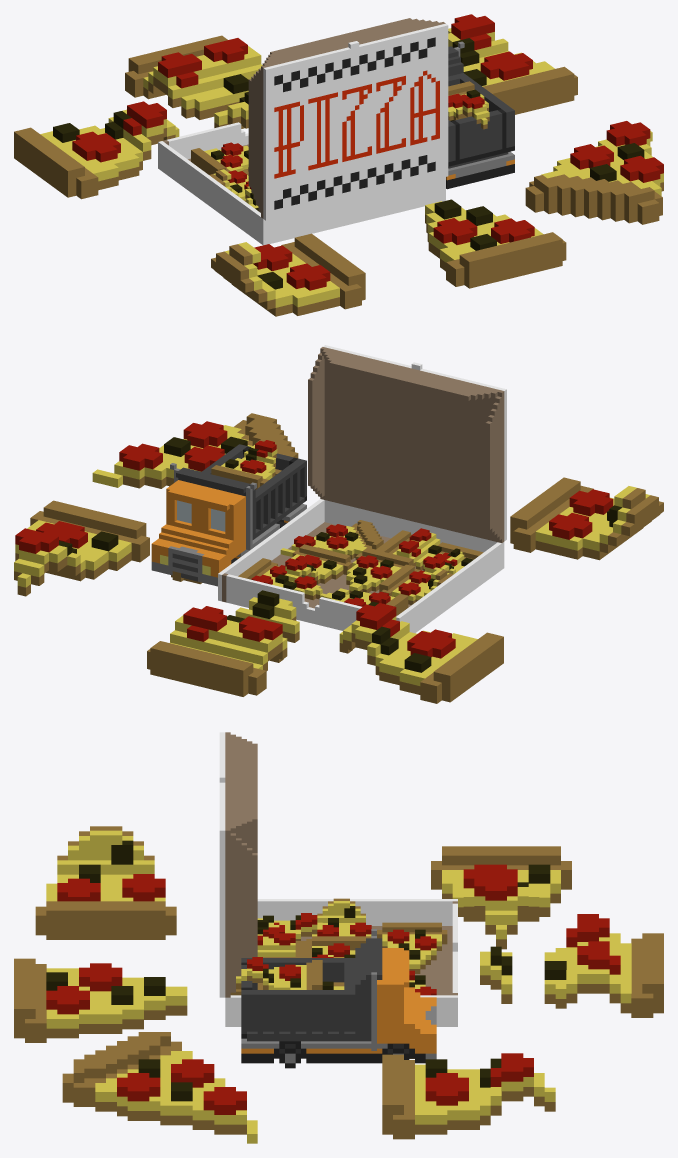
File: pizza_farm.obj
3 renders of one model, top to bottom at view 1: azimuth 30°, elevation 25°; view 2: azimuth 150°, elevation 25°; view 3: azimuth 270°, elevation 25°, orthographic. The views are drawn at different scales.
Parts seen in each view (by area): view 1: pizza_farm; view 2: pizza_farm; view 3: pizza_farm.
Part boxes in pixels (x1,y1,x2,y2): pizza_farm: [14, 14, 663, 316]; pizza_farm: [14, 345, 663, 703]; pizza_farm: [14, 732, 663, 1143].
Size of the model in its own units: 117 by 41 by 120.
Materials: 1 (1 with a texture image).
